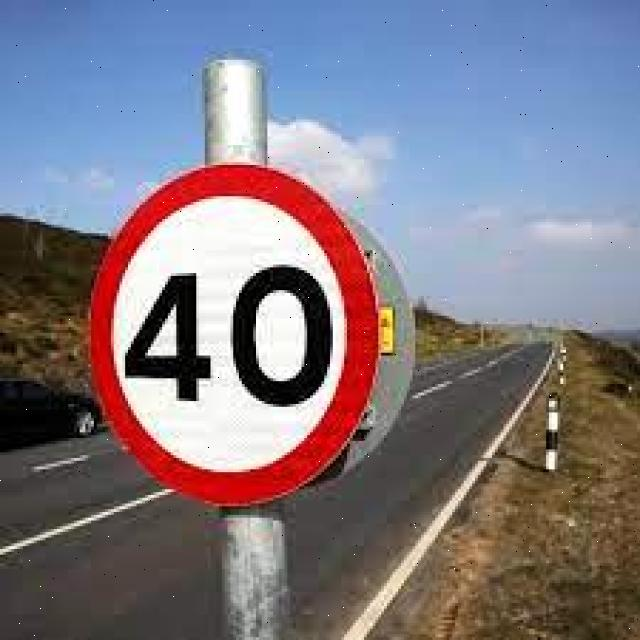speed limit 40: (89, 167, 379, 504)
